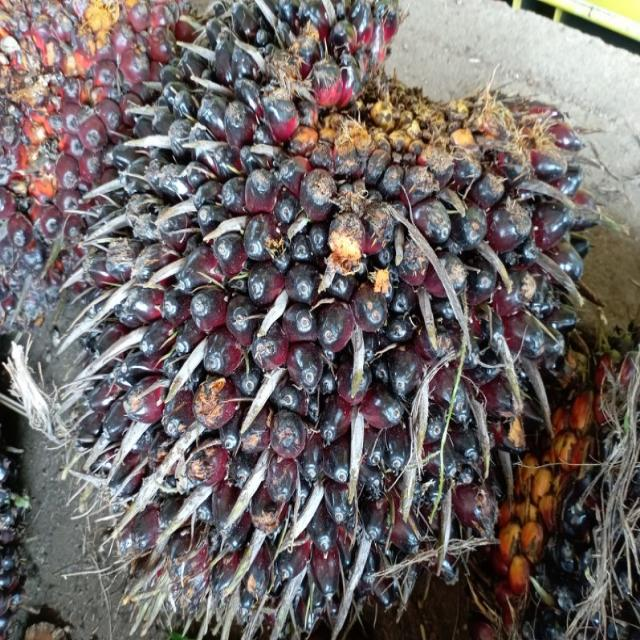fraksi 00: (69, 9, 574, 636)
